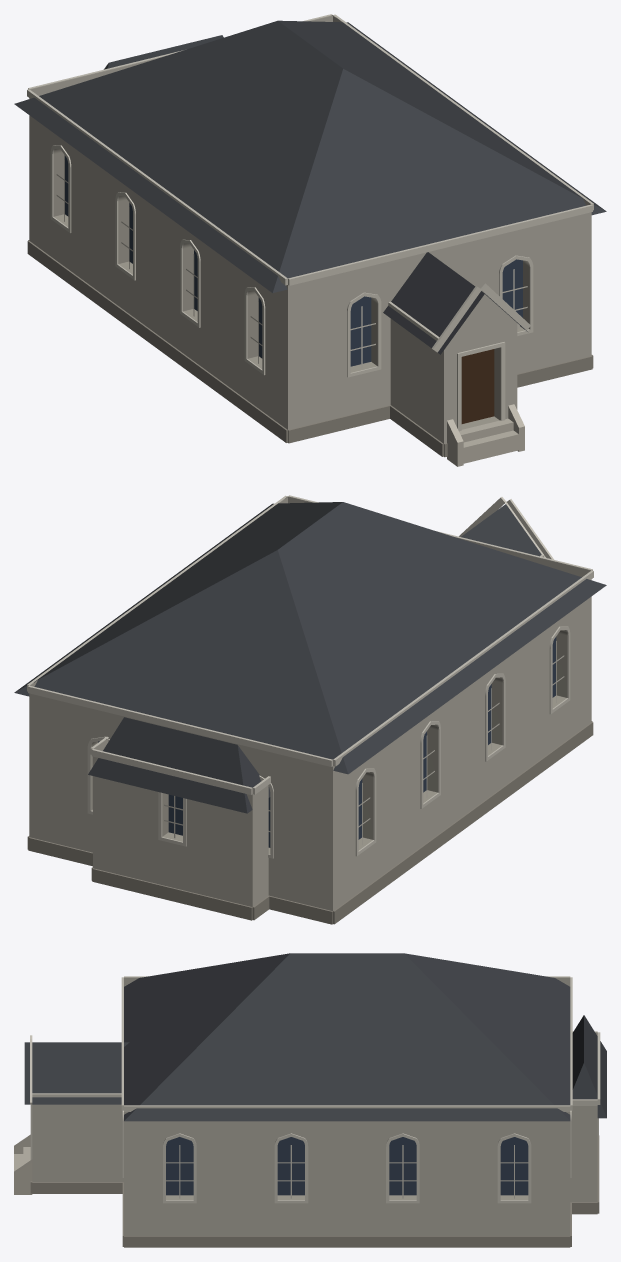
File: ch-gardner-memorial-1913.glb
The picture shows the model from 3 angles, top to bottom: view 1: azimuth 30°, elevation 25°; view 2: azimuth 150°, elevation 25°; view 3: azimuth 270°, elevation 25°; orthographic projection. The views are drawn at different scales.
Visible parts, largest first — view 1: ch_roof, ch_brick, ch_trim, ch_base, ch_brick2, ch_stain, ch_conc, ch_door; view 2: ch_roof, ch_brick, ch_trim, ch_base, ch_brick2, ch_stain; view 3: ch_roof, ch_brick, ch_trim, ch_base, ch_stain, ch_conc, ch_brick2.
Part boxes in pixels (left/top/right/bottom): ch_roof: left=14, top=20, right=606, bottom=354; ch_brick: left=29, top=16, right=591, bottom=443; ch_trim: left=27, top=14, right=593, bottom=431; ch_base: left=27, top=240, right=593, bottom=457; ch_brick2: left=53, top=149, right=529, bottom=429; ch_stain: left=64, top=155, right=522, bottom=366; ch_conc: left=447, top=404, right=524, bottom=466; ch_door: left=461, top=349, right=494, bottom=423; ch_roof: left=14, top=502, right=606, bottom=813; ch_brick: left=29, top=497, right=591, bottom=910; ch_trim: left=27, top=495, right=593, bottom=858; ch_base: left=27, top=721, right=593, bottom=924; ch_brick2: left=91, top=630, right=567, bottom=853; ch_stain: left=98, top=637, right=556, bottom=847; ch_roof: left=24, top=953, right=606, bottom=1121; ch_brick: left=32, top=978, right=597, bottom=1235; ch_trim: left=30, top=976, right=600, bottom=1203; ch_base: left=30, top=1135, right=599, bottom=1247; ch_stain: left=166, top=1137, right=528, bottom=1195; ch_conc: left=14, top=1134, right=32, bottom=1194; ch_brick2: left=166, top=1195, right=528, bottom=1199.
Bounding box in the file's own units: 10.9 × 8.4 × 19.4.
